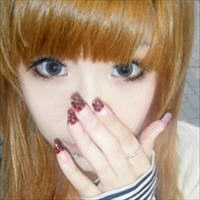face: (10, 1, 164, 175)
